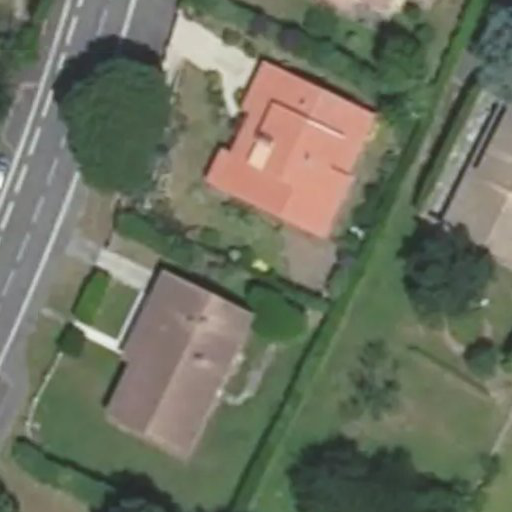pool: (195, 238, 316, 245)
